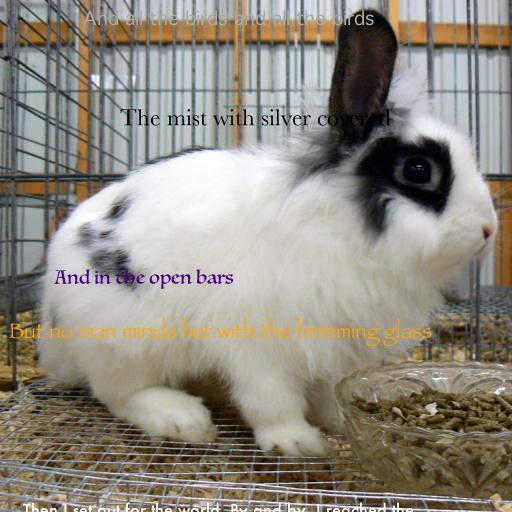Baskerville: (119, 109, 391, 126)
Futura: (22, 502, 414, 512)
Geneva: (83, 10, 375, 26)
Luminari: (54, 269, 234, 290)
Papyrus: (8, 317, 432, 346)
